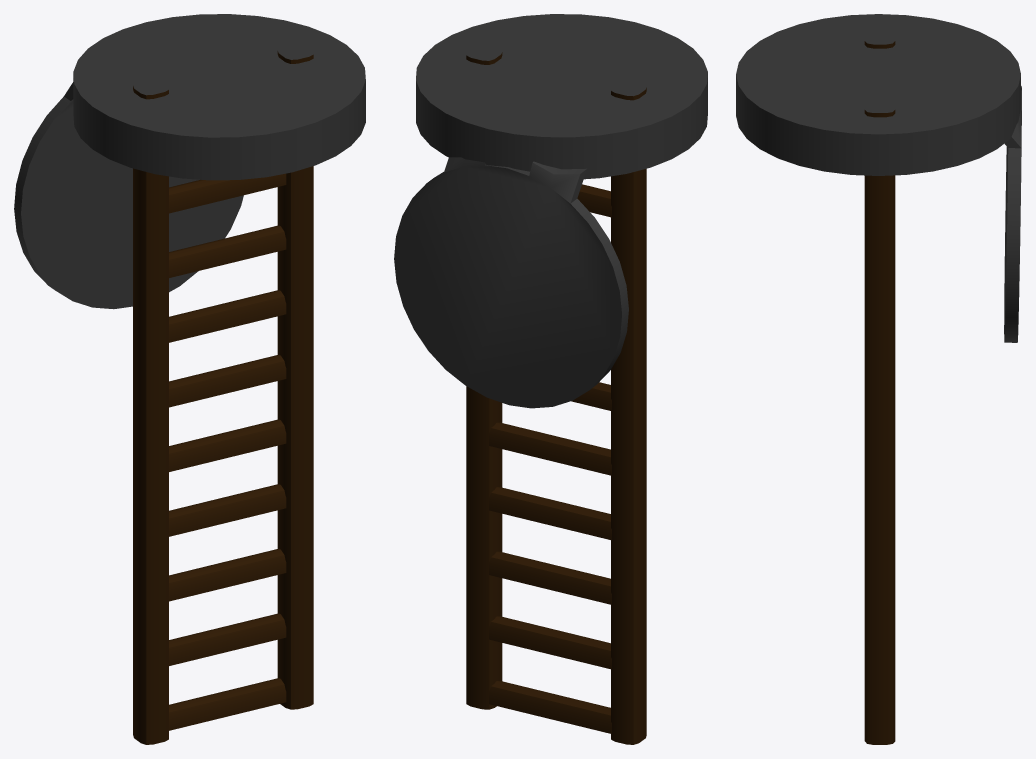
File: entrance.glb
3 views of the same model, side by side, from view 1: azimuth 30°, elevation 25°; view 2: azimuth 150°, elevation 25°; view 3: azimuth 270°, elevation 25° (orthographic). The views are drawn at different scales.
Visible parts, largest first — view 1: Entrance; view 2: Entrance; view 3: Entrance.
Part boxes in pixels (bbox=[...]): Entrance: bbox=[14, 14, 365, 744]; Entrance: bbox=[394, 14, 707, 744]; Entrance: bbox=[736, 14, 1021, 744].
Bounding box in the file's own units: 8.41 × 20.08 × 8.24.
